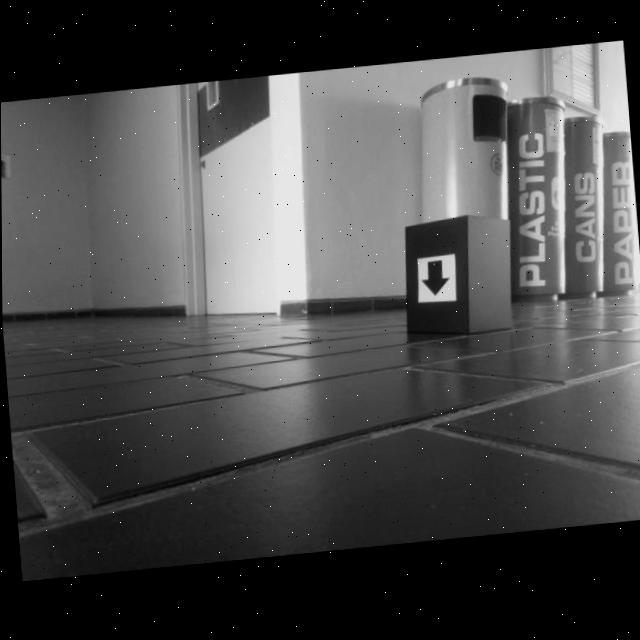DOWN: (420, 262, 450, 299)
